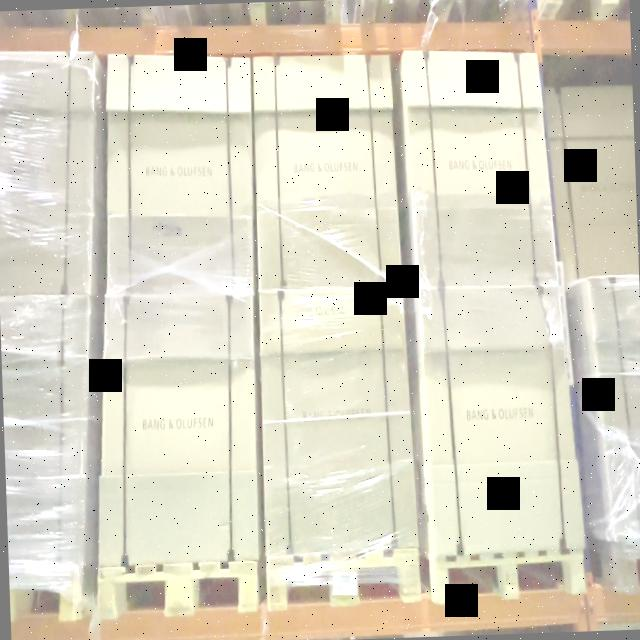box: (104, 296, 260, 561), (259, 288, 412, 554), (422, 284, 565, 552), (108, 59, 252, 296), (253, 51, 397, 286), (408, 52, 545, 288)
